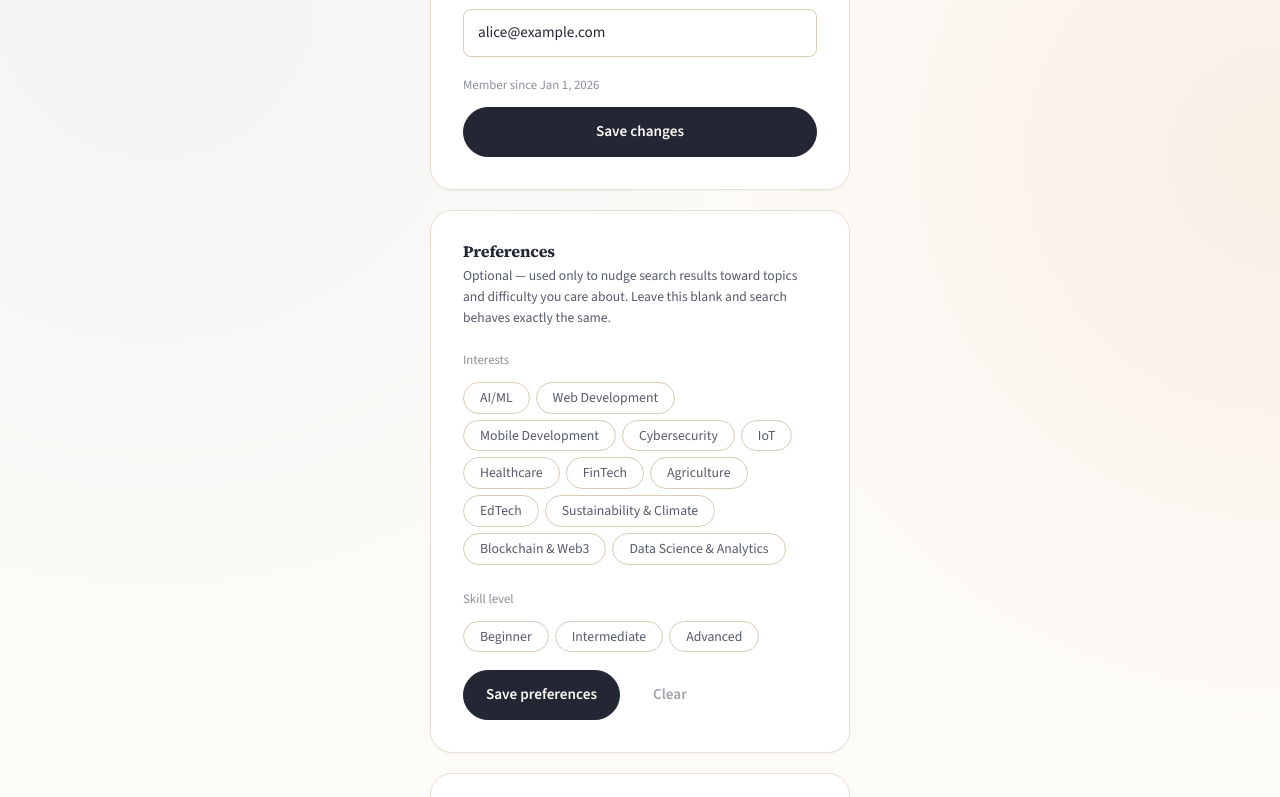
it: Profile — optional personalization (interests / skill level) › toggling interests and saving sends exactly the selected set to updateProfile
(page scrolled)
Click the button "AI/ML": coordinates (496, 398) [463,382,530,414]
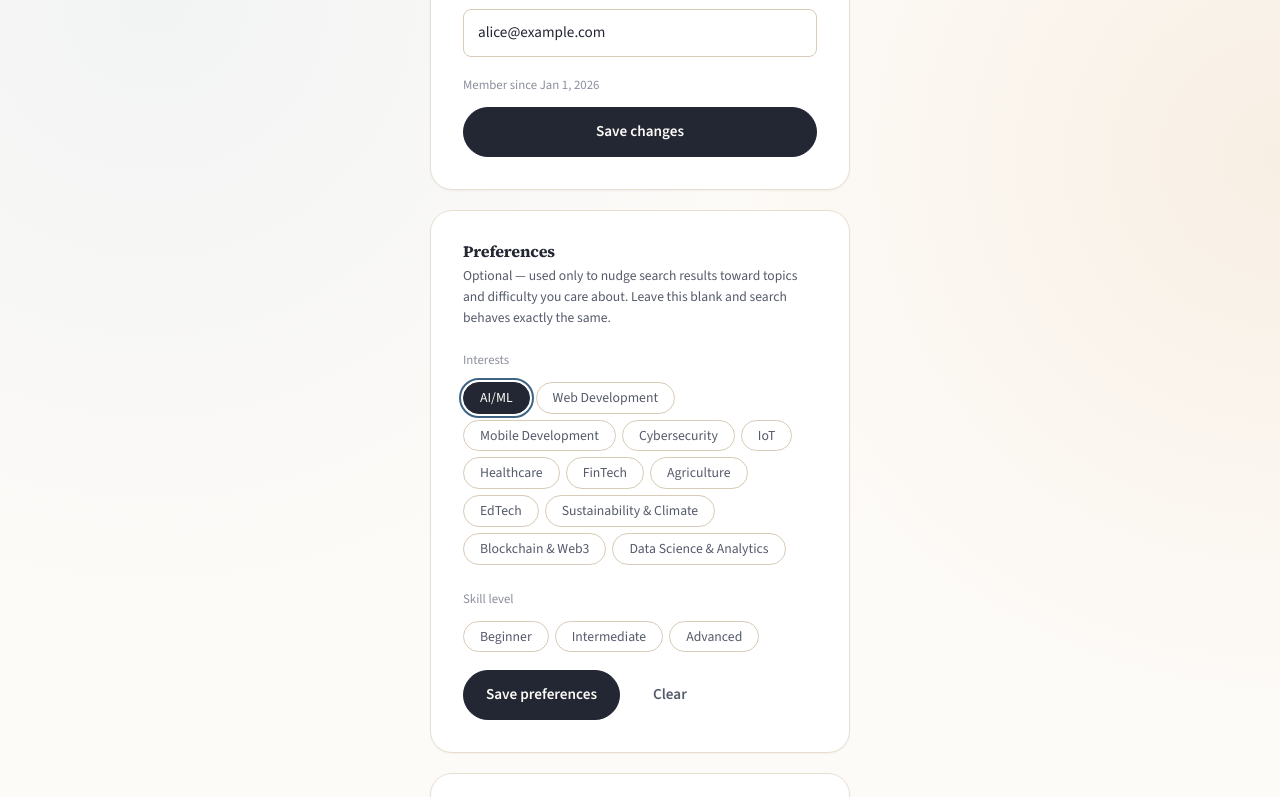
Click the button "FinTech": coordinates (605, 473) [566,457,644,489]
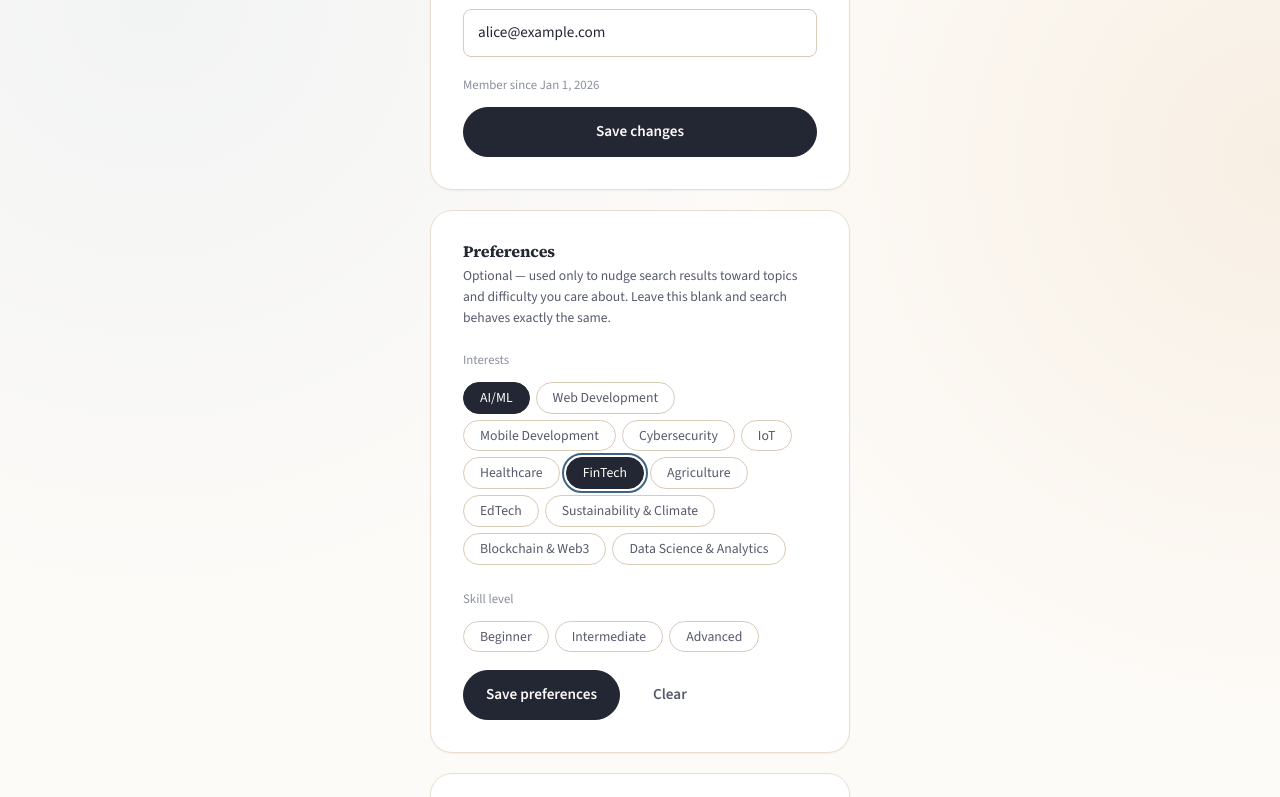
Click the button "Save preferences": coordinates (542, 695) [463,670,620,720]
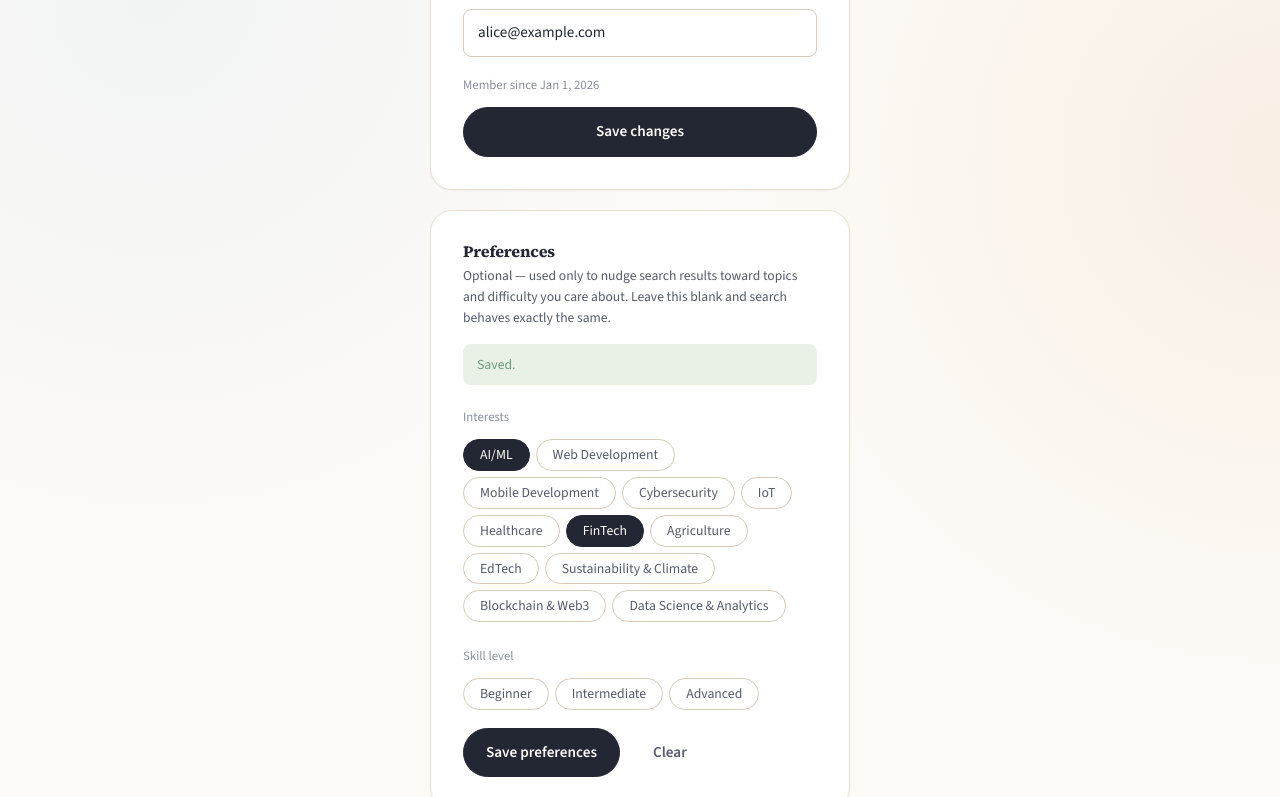
Expected: the text "Saved." is shown, [463,344,817,385]
